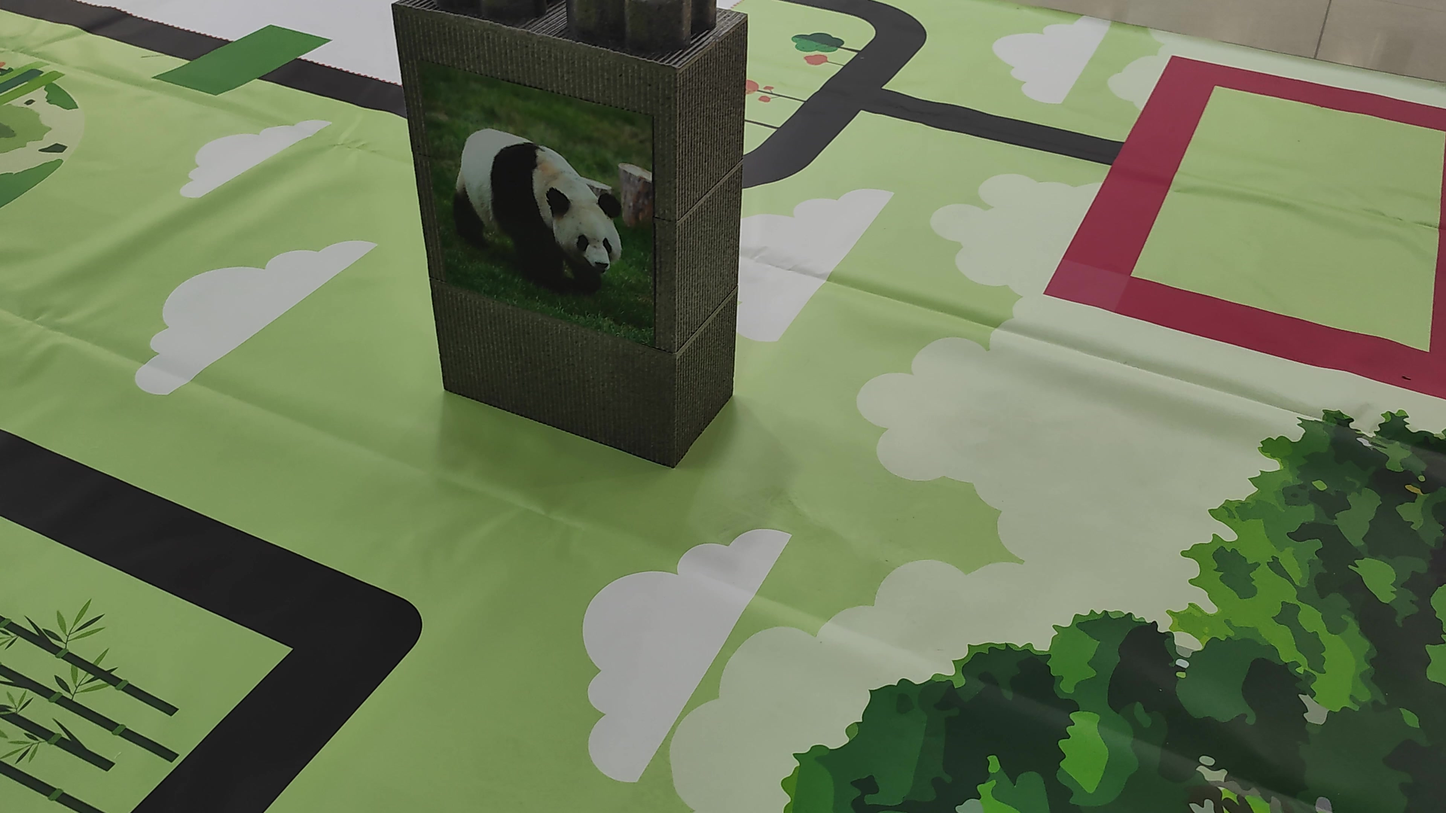panda: (438, 97, 642, 315)
